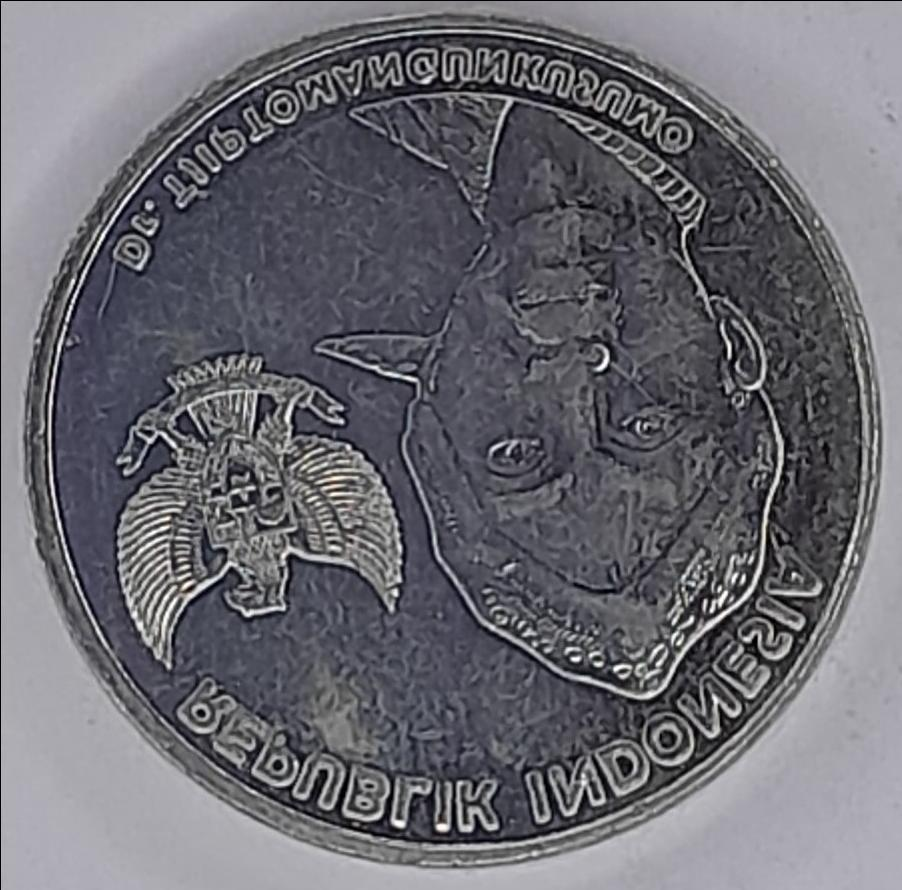coin_200_e2016: (0, 15, 902, 890)
